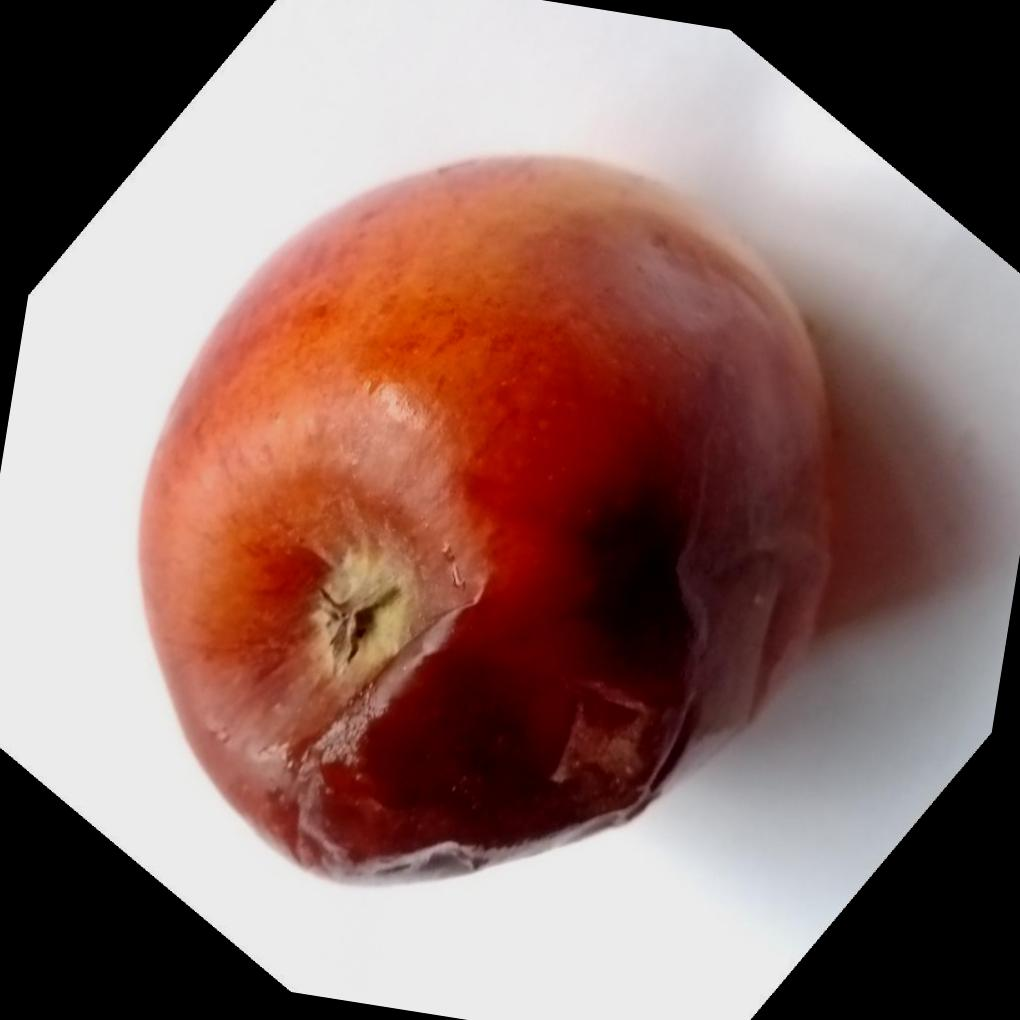FreshOrange: (136, 148, 841, 888)
